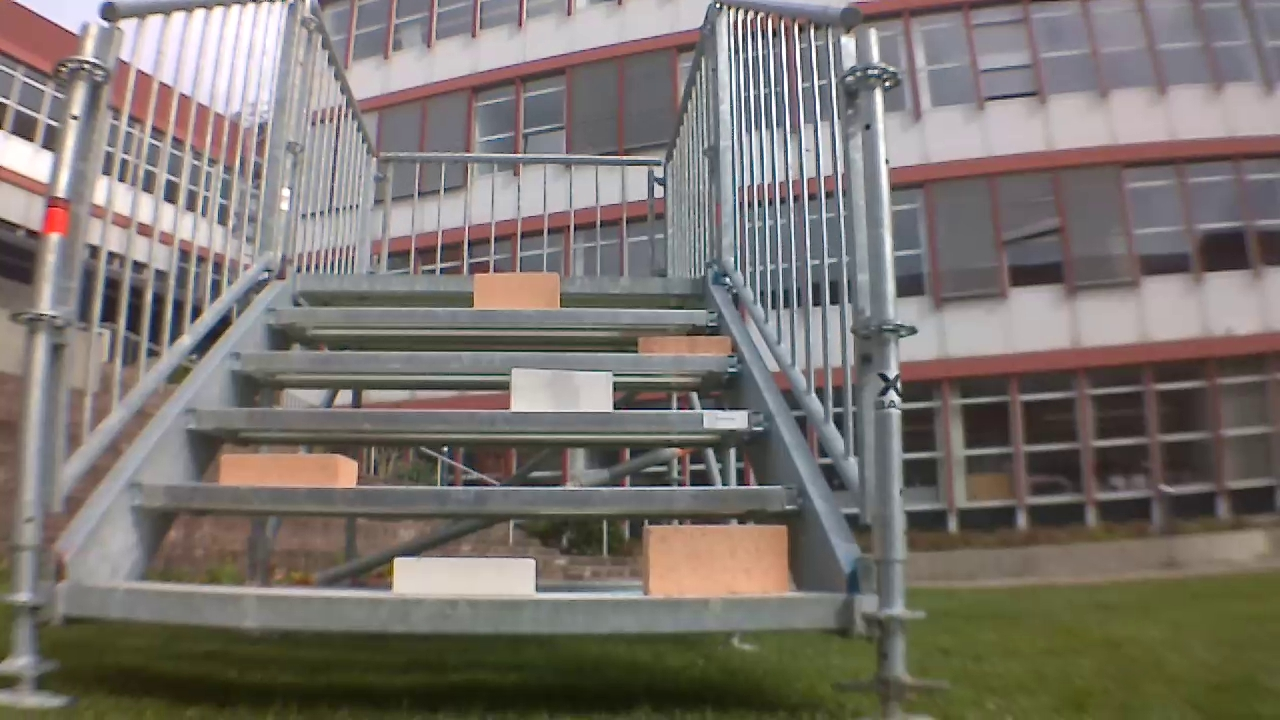brick: (643, 525, 785, 594), (395, 557, 534, 593), (220, 452, 356, 486), (511, 370, 612, 411), (475, 272, 558, 309), (639, 336, 728, 354)
edge: (65, 584, 845, 631), (129, 481, 802, 512), (184, 407, 768, 431), (229, 351, 745, 372), (296, 273, 706, 294), (267, 306, 720, 325)
stairs: (3, 1, 940, 715)
steps: (59, 267, 857, 639)
